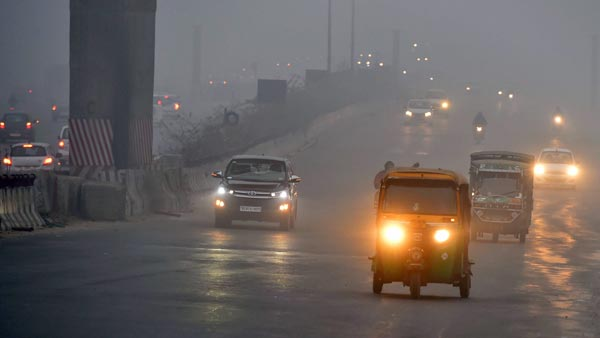Car: (211, 155, 304, 231)
